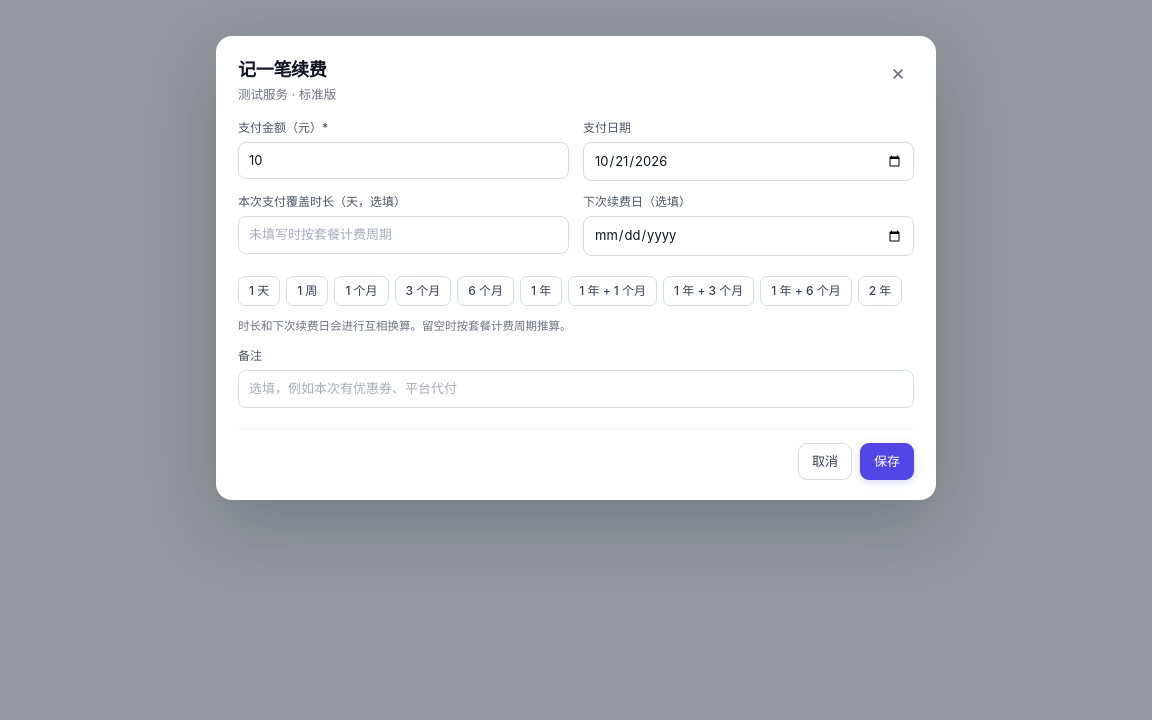
PaymentForm › fills the duration from a preset button
Click the button "1 个月" at [362, 291], box [334,276,389,306]
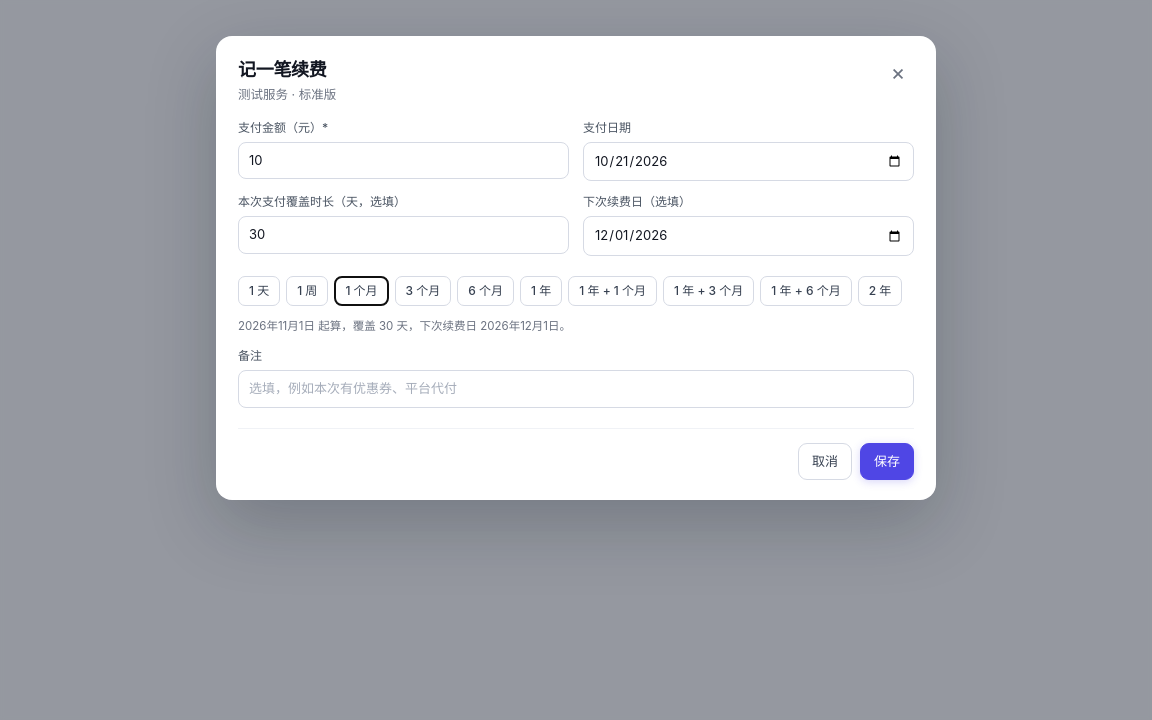
Check: the number field with placeholder "未填写时按套餐计费周期" below "本次支付覆盖时长（天，选填）" holds "30", box [238,216,569,254]
Check: the date field showing "2026-12-01" below "下次续费日（选填）" is shown, box [583,216,914,256]
